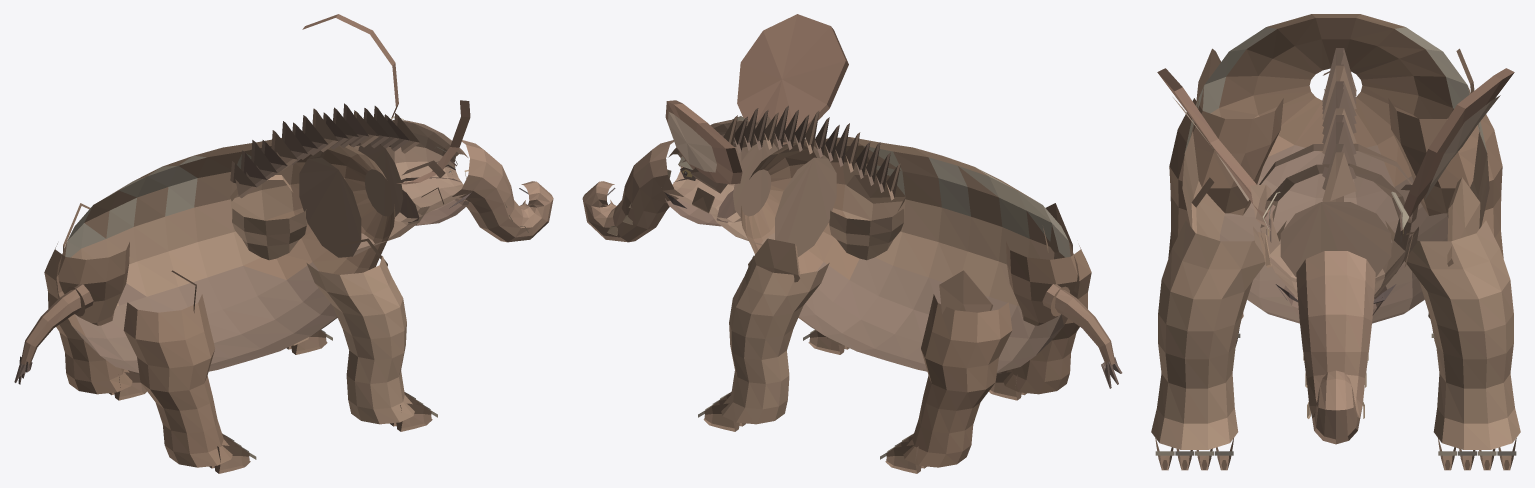
The model's file is mastelio-v03-anatomy-blockout.glb.
3 renders of one model, left to right at view 1: azimuth 30°, elevation 25°; view 2: azimuth 150°, elevation 25°; view 3: azimuth 270°, elevation 25°, orthographic. The views are drawn at different scales.
Visible parts, largest first — view 1: Mastelio_Anatomia_Facetada_V03; view 2: Mastelio_Anatomia_Facetada_V03; view 3: Mastelio_Anatomia_Facetada_V03.
Boxes of the visible parts, left/top/right/bottom form: Mastelio_Anatomia_Facetada_V03: left=14, top=14, right=553, bottom=473; Mastelio_Anatomia_Facetada_V03: left=582, top=14, right=1122, bottom=473; Mastelio_Anatomia_Facetada_V03: left=1151, top=14, right=1520, bottom=470.
Bounding box in the file's own units: 7.25 × 4 × 3.22.
